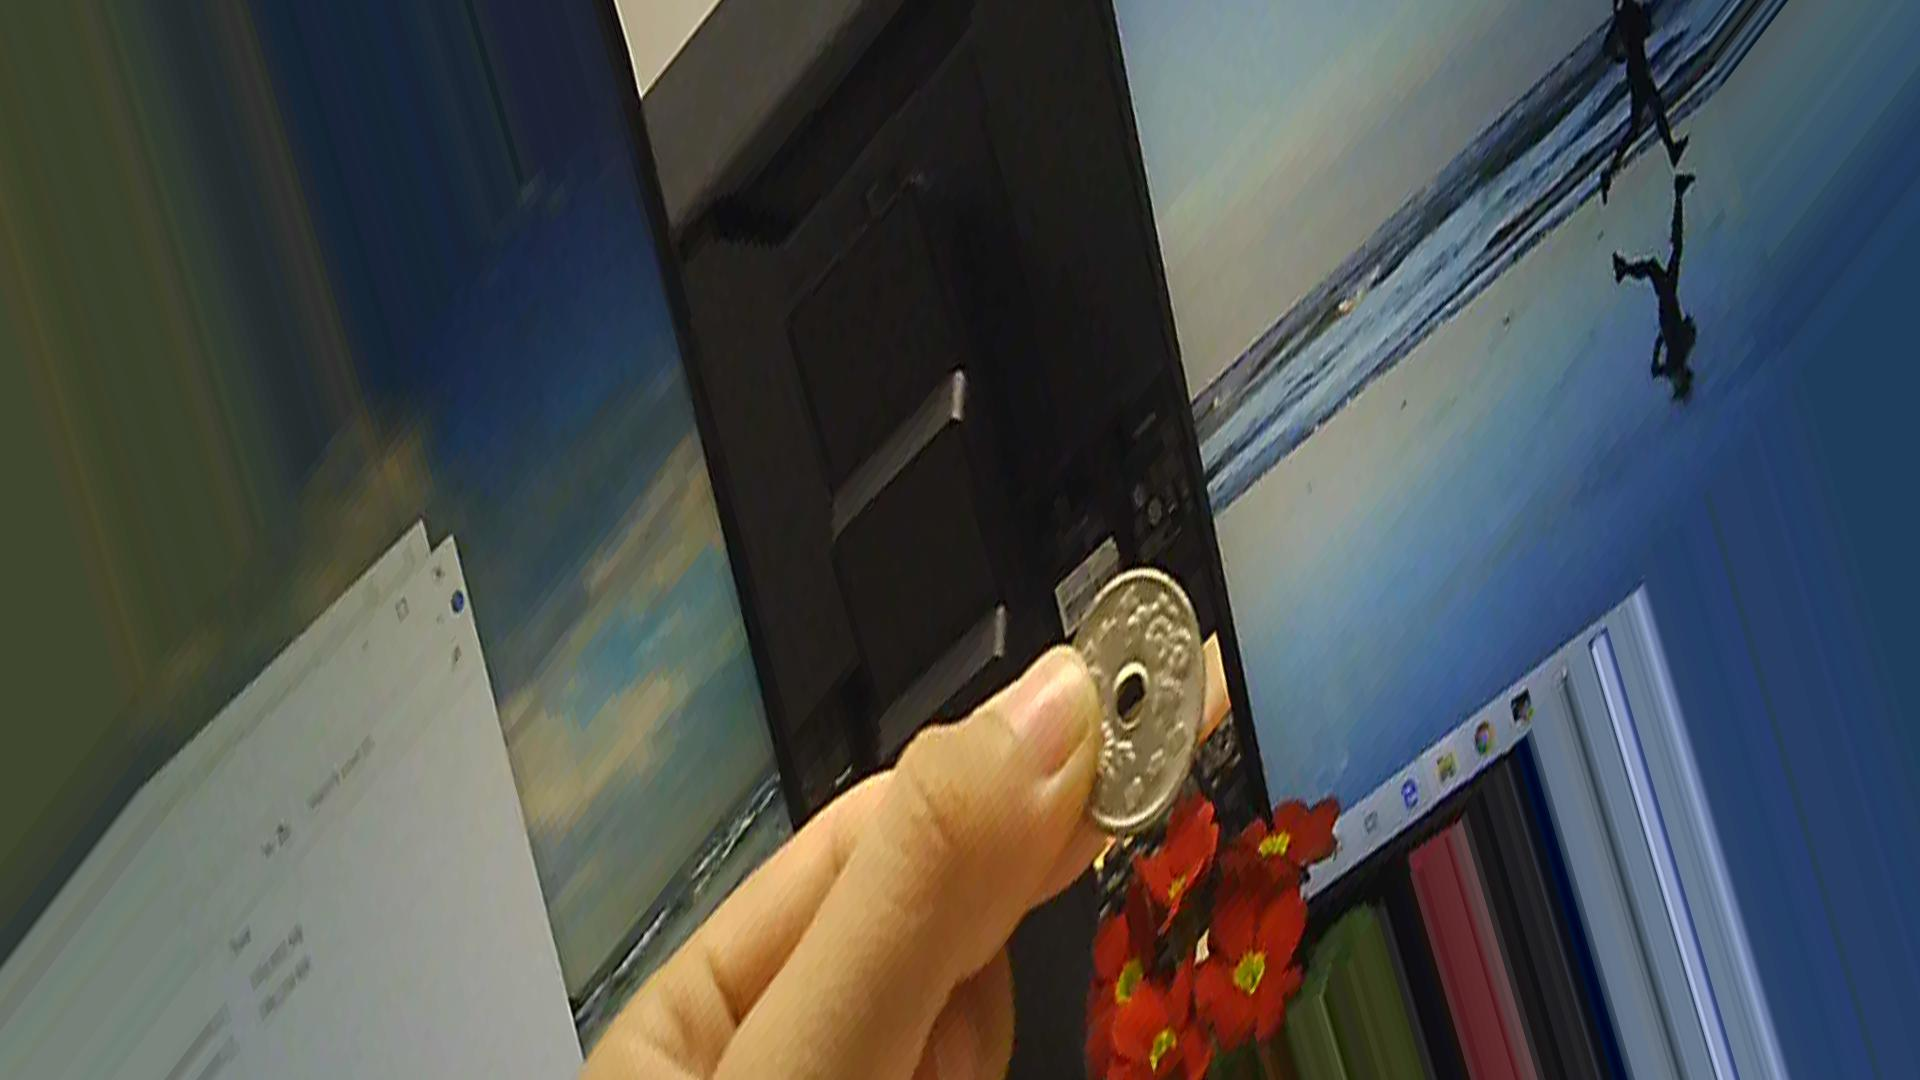50 Yen: (1060, 574, 1203, 862)
